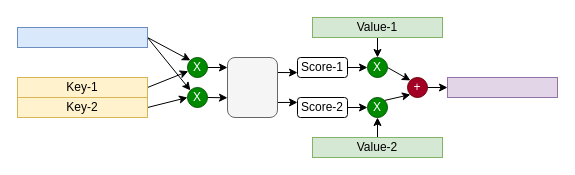
Some shapes in this 575 by 175 pixel diagram are drawn without their labels. The box of each missing label's shape, as (x1, y1, x2, y2) in pixels:
Output: (446, 76, 558, 98)
Query: (16, 26, 148, 48)
SoftMax: (226, 56, 278, 118)
